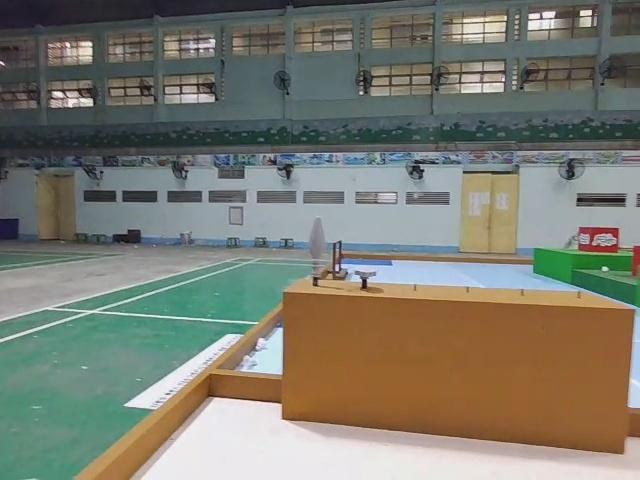Hand: (313, 266, 377, 291), (324, 240, 348, 279), (354, 270, 377, 289), (315, 268, 348, 281), (353, 270, 377, 278), (226, 237, 240, 248), (279, 238, 294, 248)
Sph: (310, 218, 374, 288), (311, 225, 346, 283), (307, 217, 328, 278), (331, 240, 343, 275)
